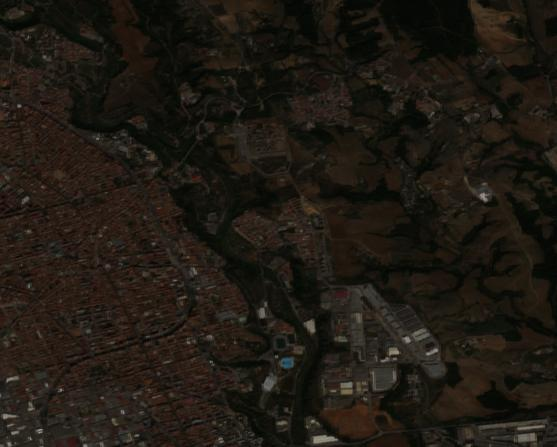Industria: (317, 275, 456, 423)
Poblacion: (0, 5, 294, 446)
